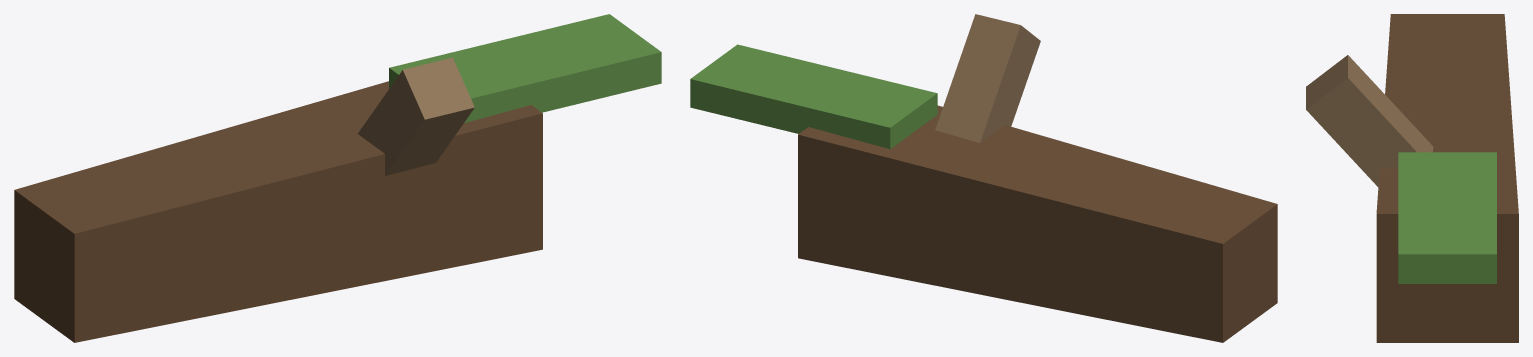
The model's file is prop_log.glb.
3 renders of one model, left to right at view 1: azimuth 30°, elevation 25°; view 2: azimuth 150°, elevation 25°; view 3: azimuth 270°, elevation 25°, orthographic. The views are drawn at different scales.
Parts seen in each view (by area): view 1: prop_log; view 2: prop_log; view 3: prop_log.
Part boxes in pixels (x1,y1,x2,y2): prop_log: [14, 14, 661, 342]; prop_log: [690, 14, 1277, 342]; prop_log: [1306, 14, 1518, 342].
Size of the model in its own units: 0.59 by 0.2182 by 0.1943.
